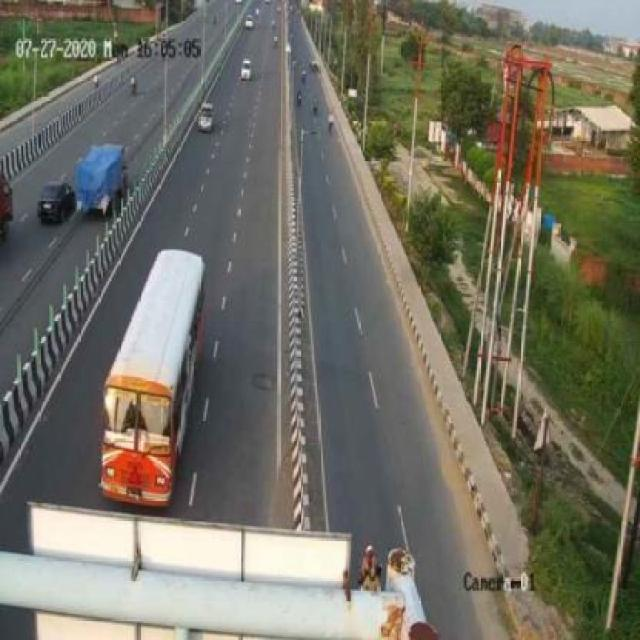car: (34, 177, 74, 223), (192, 100, 217, 137), (237, 55, 255, 80)
